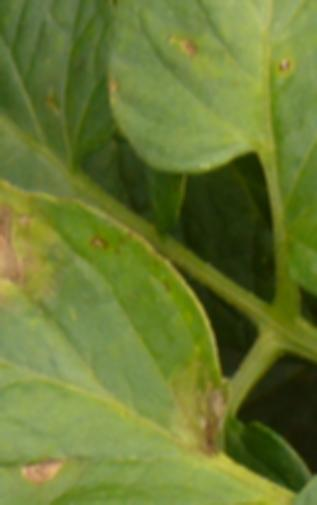Tomato Early blight leaf: (0, 138, 268, 505), (105, 0, 317, 287)
